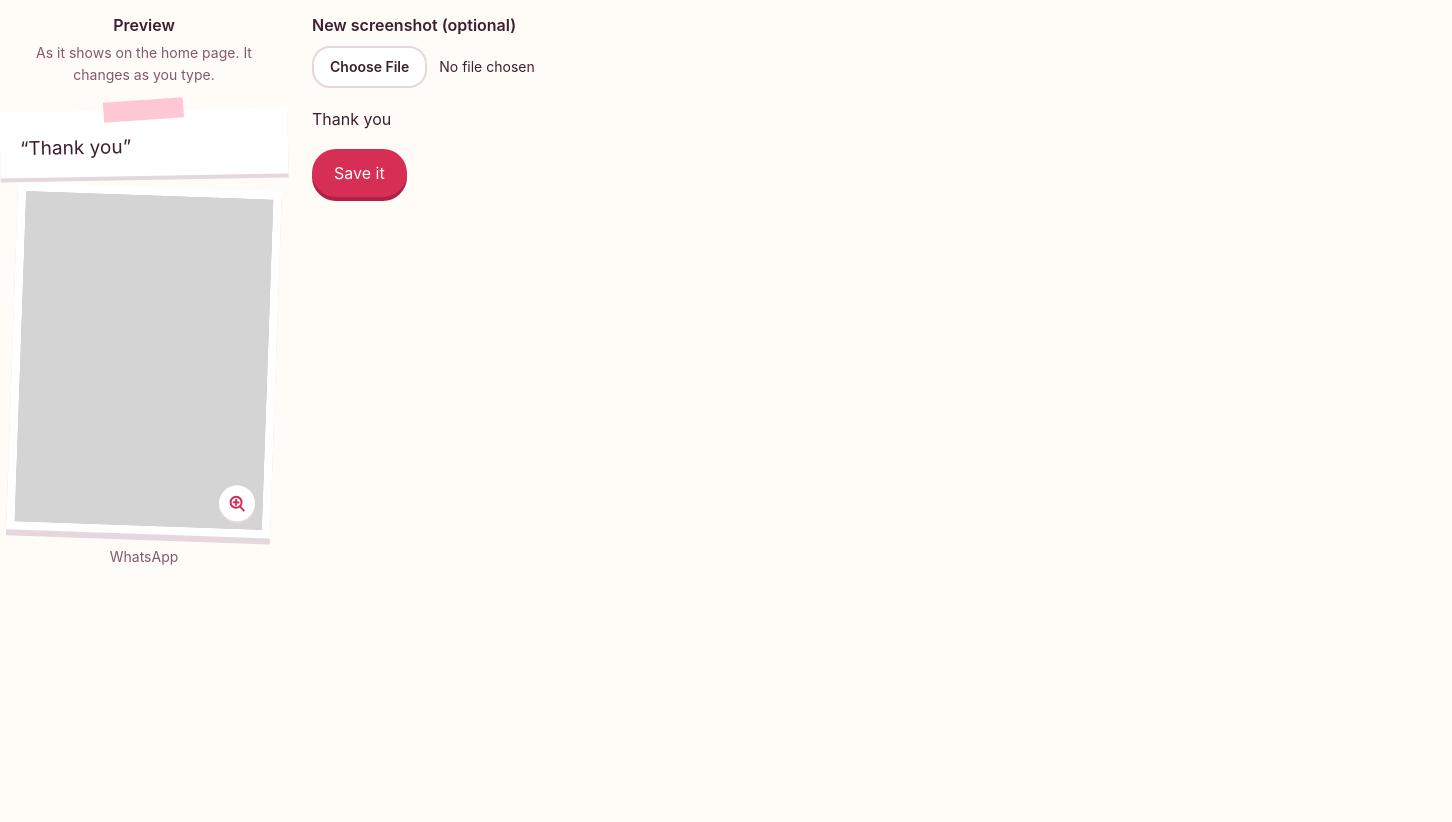
Test case: TestimonialForm › saves an edit without a new image, and never sends the file itself
The image size is (1452, 822).
Click the button "Save it". click: (359, 173)
box: [312, 149, 407, 197]
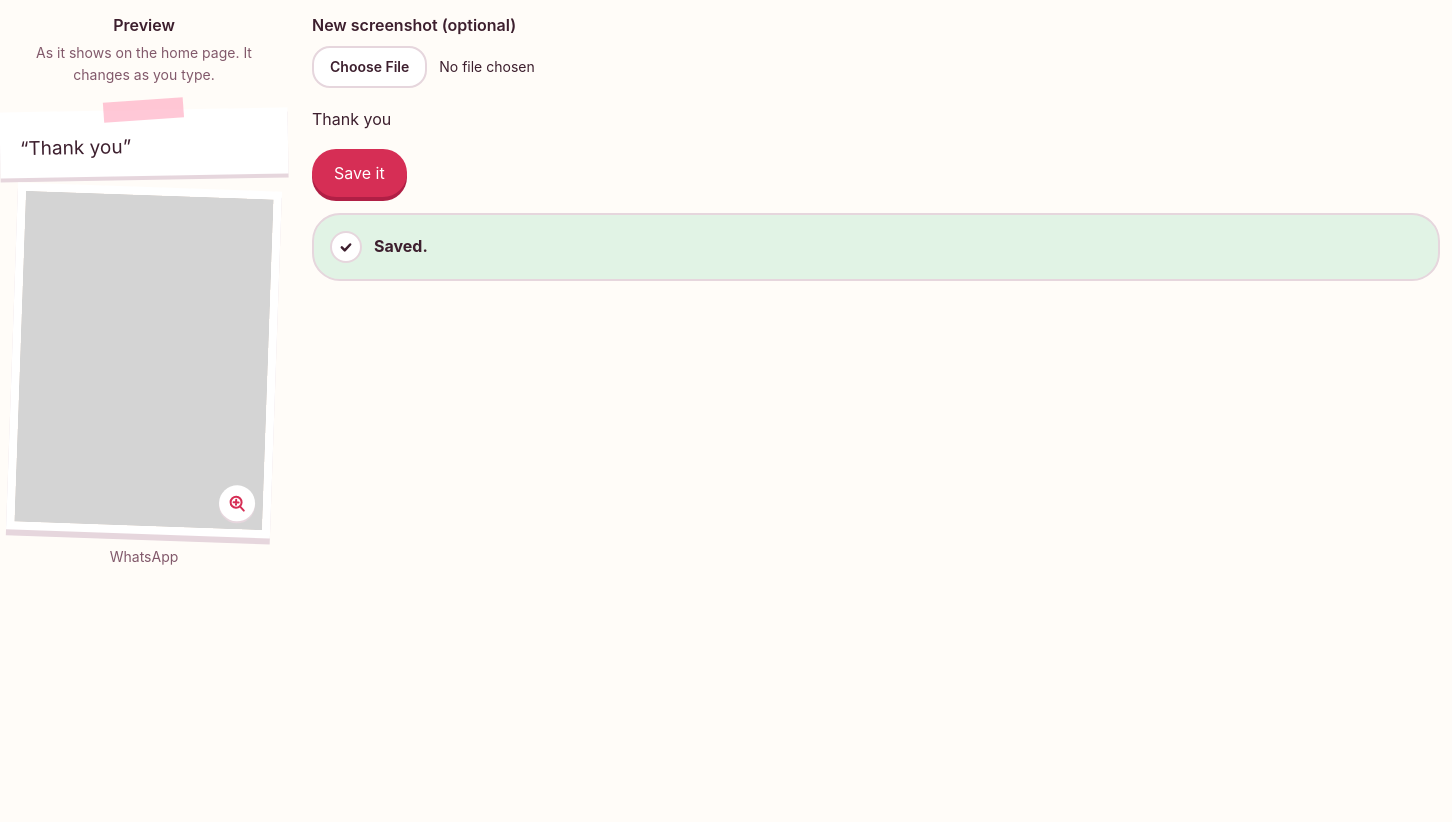
Result: the text "Saved." is shown at [374, 233, 428, 259]
